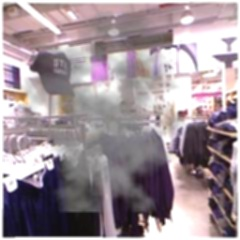smoke: (55, 63, 166, 205)
